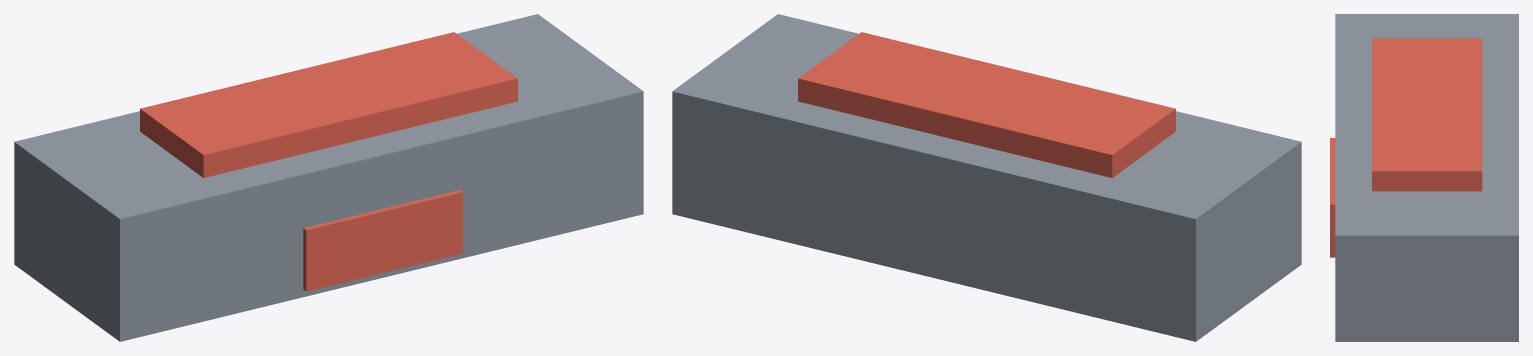
File: SU_BuranPatrolBoat_LOD0.glb
3 views of the same model, side by side, from view 1: azimuth 30°, elevation 25°; view 2: azimuth 150°, elevation 25°; view 3: azimuth 270°, elevation 25° (orthographic). The views are drawn at different scales.
Parts seen in each view (by area): view 1: EntranceGate; view 2: EntranceGate; view 3: EntranceGate.
Boxes of the visible parts, x1=… form: EntranceGate: x1=14, y1=14, x2=643, y2=341; EntranceGate: x1=672, y1=14, x2=1301, y2=341; EntranceGate: x1=1330, y1=14, x2=1518, y2=341.
Size of the model in its own units: 1000 by 266 by 360.
